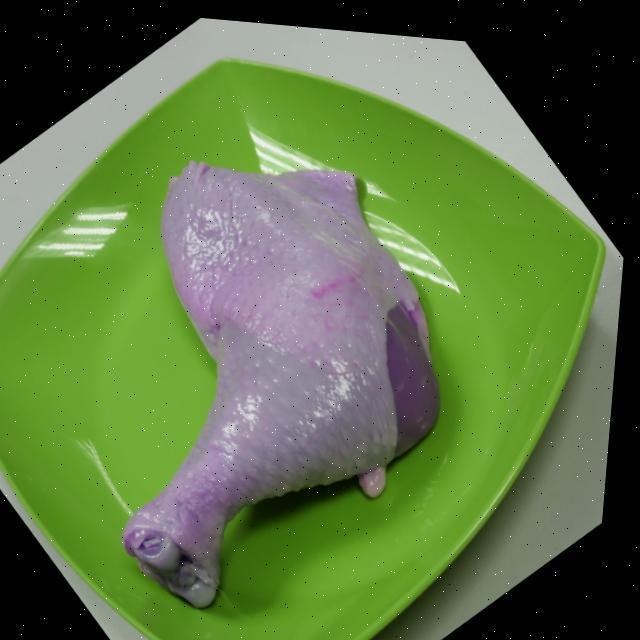quater: (119, 152, 439, 603)
